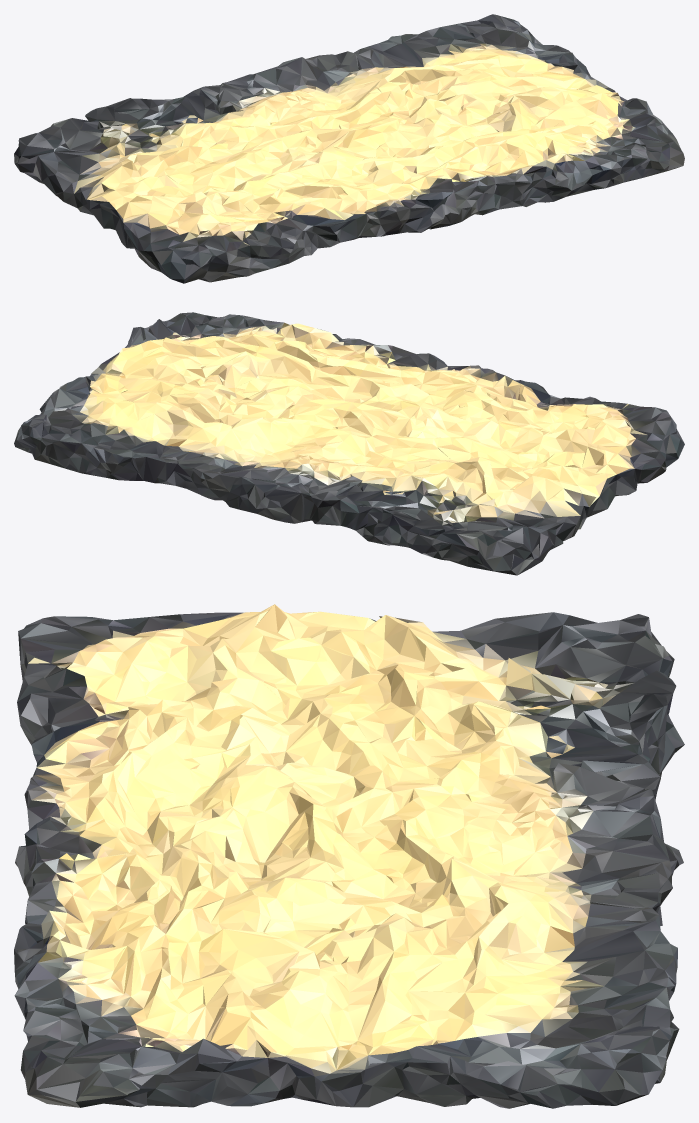
Rendered from tray.glb.
3 renders of one model, top to bottom at view 1: azimuth 30°, elevation 25°; view 2: azimuth 150°, elevation 25°; view 3: azimuth 270°, elevation 25°, orthographic. The views are drawn at different scales.
Parts seen in each view (by area): view 1: tray; view 2: tray; view 3: tray.
Boxes of the visible parts, box(x1,y1,x2,y2) form: tray: box(14, 14, 684, 283); tray: box(14, 312, 684, 575); tray: box(14, 604, 684, 1108).
Bounding box in the file's own units: 0.9769 × 0.0787 × 0.6003.
Materials: 1 (1 with a texture image).
